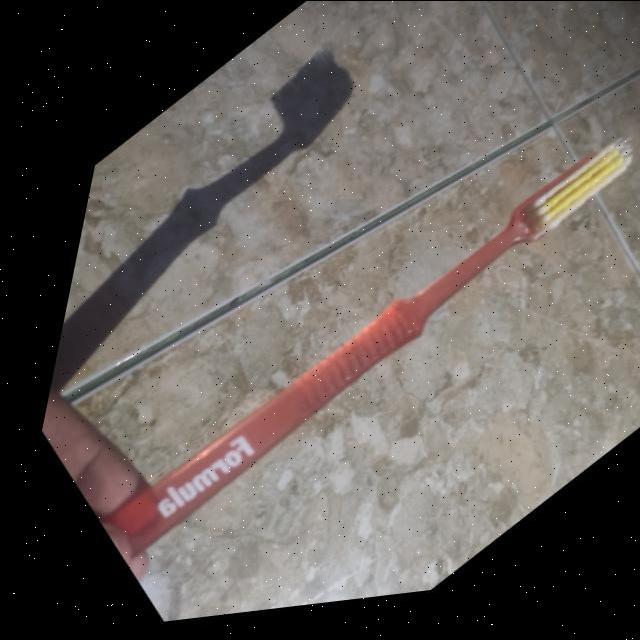toothbrush: (82, 119, 640, 574)
